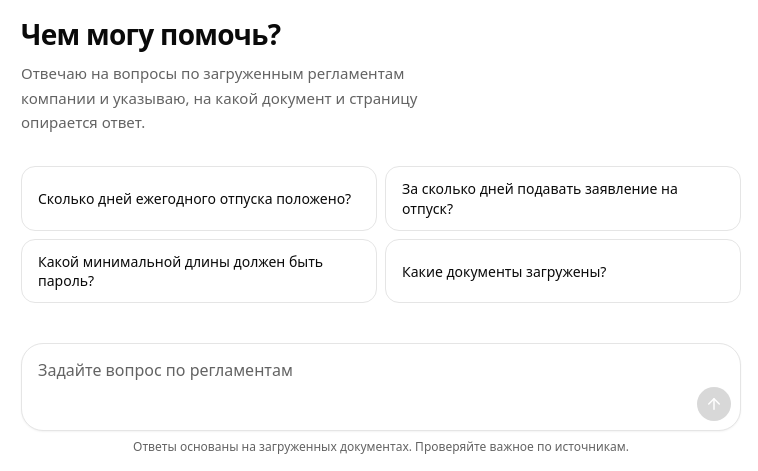
Test: Chat › renders chips inside markdown list items
The image size is (758, 471).
In the text box named "Сообщение": (381,366) [22,344,740,386], type "Сколько дней отпуска?"
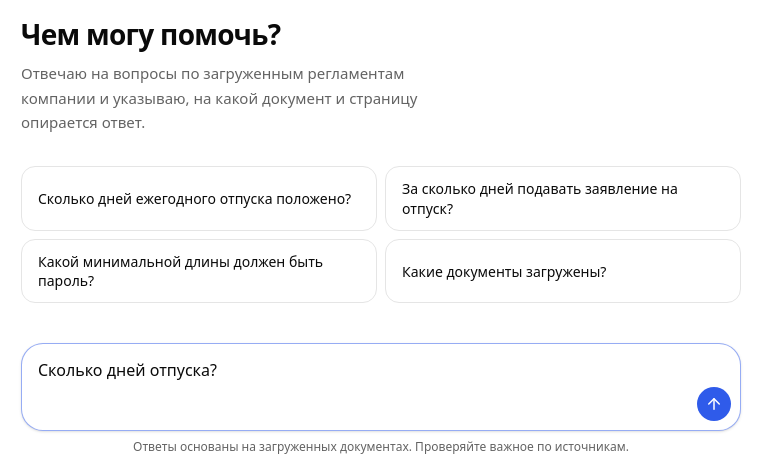
Press Enter
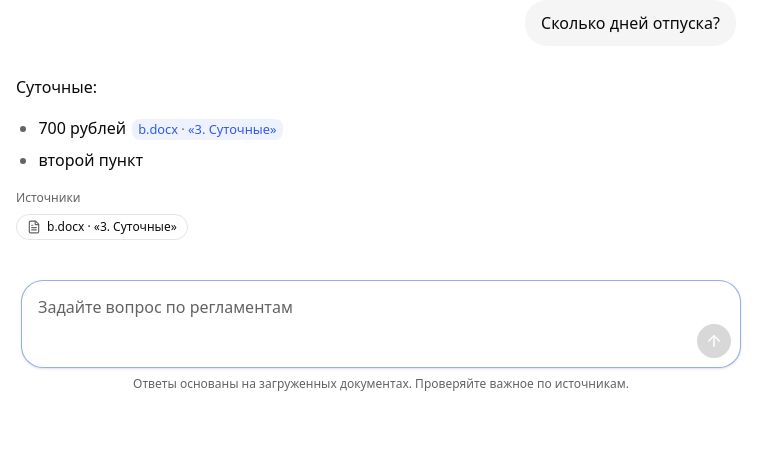
Expected: the list item "b.docx · «3. Суточные»" is shown, [38,117,282,140]
